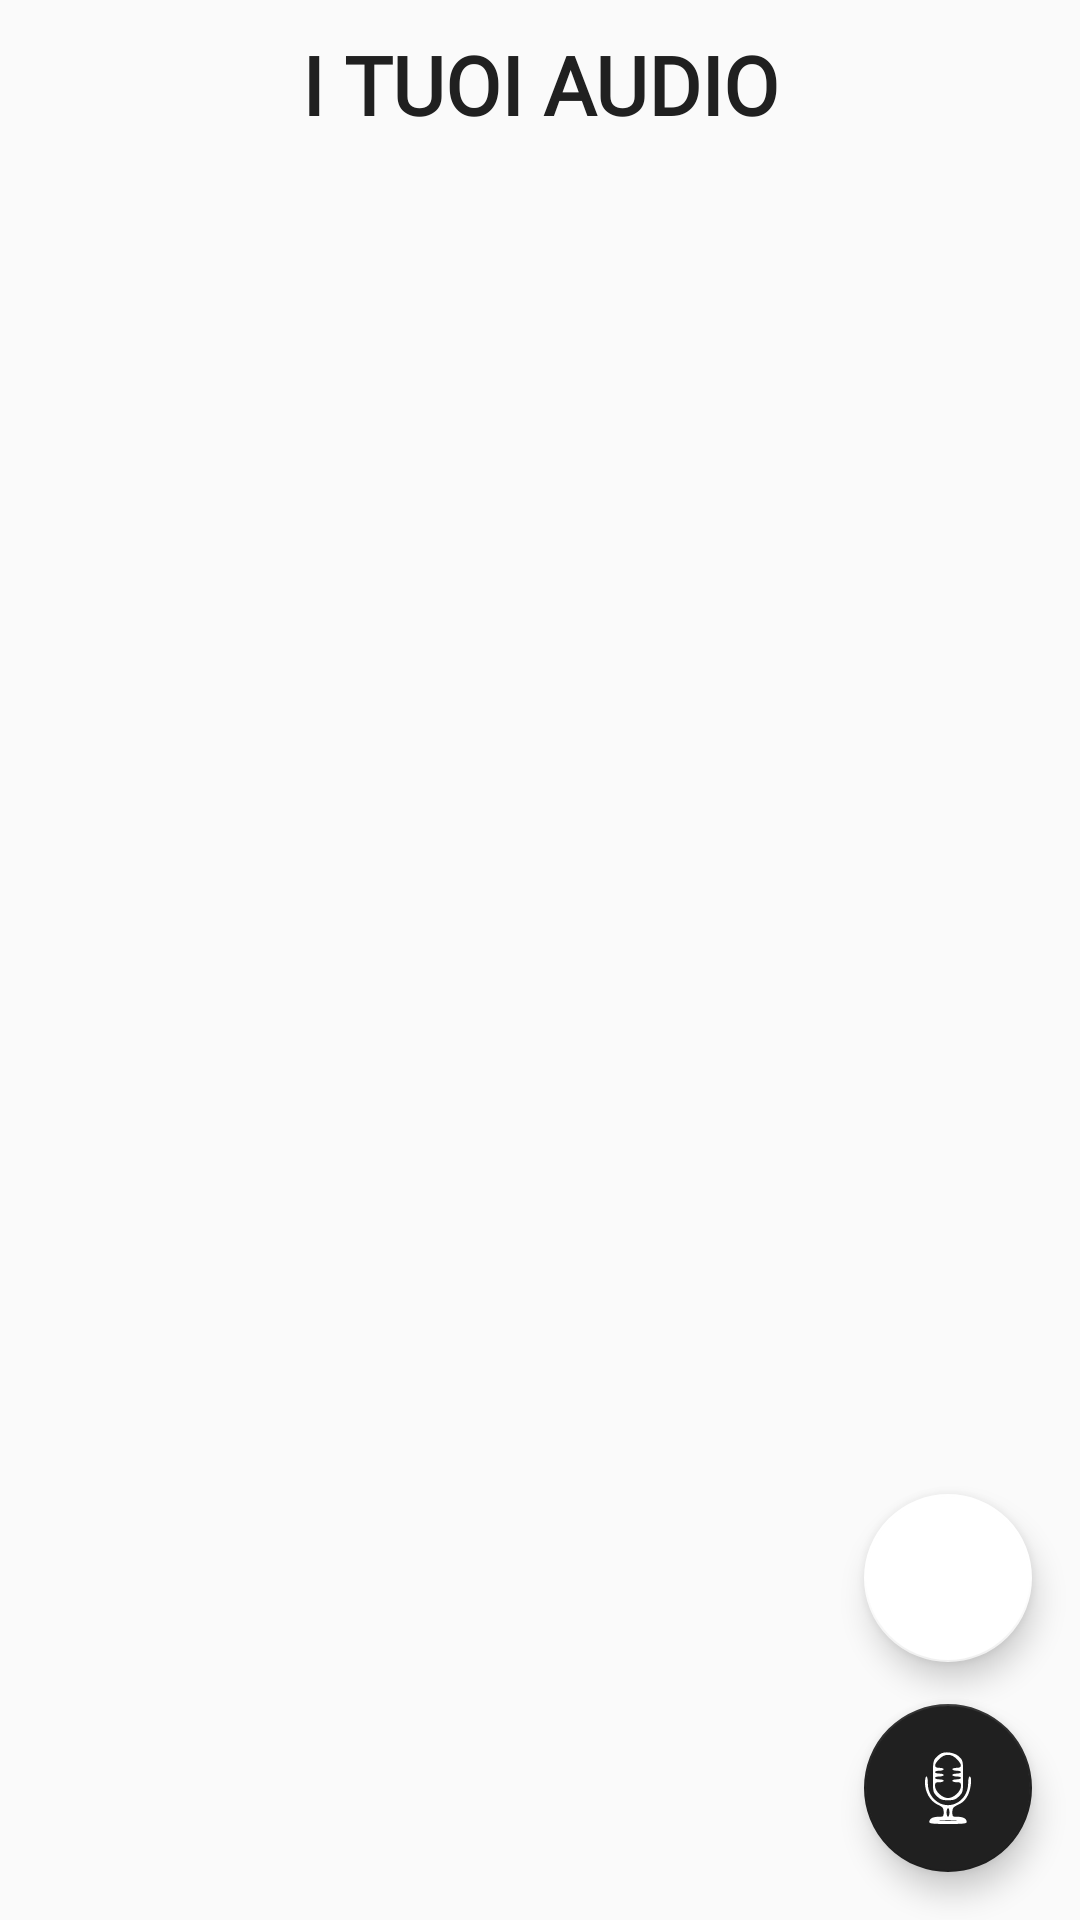

Icon bounding boxes for this 1080 × 1920 phone screenshot, format (x1, y1, x2, y2):
mic: (864, 1704, 1032, 1872)
